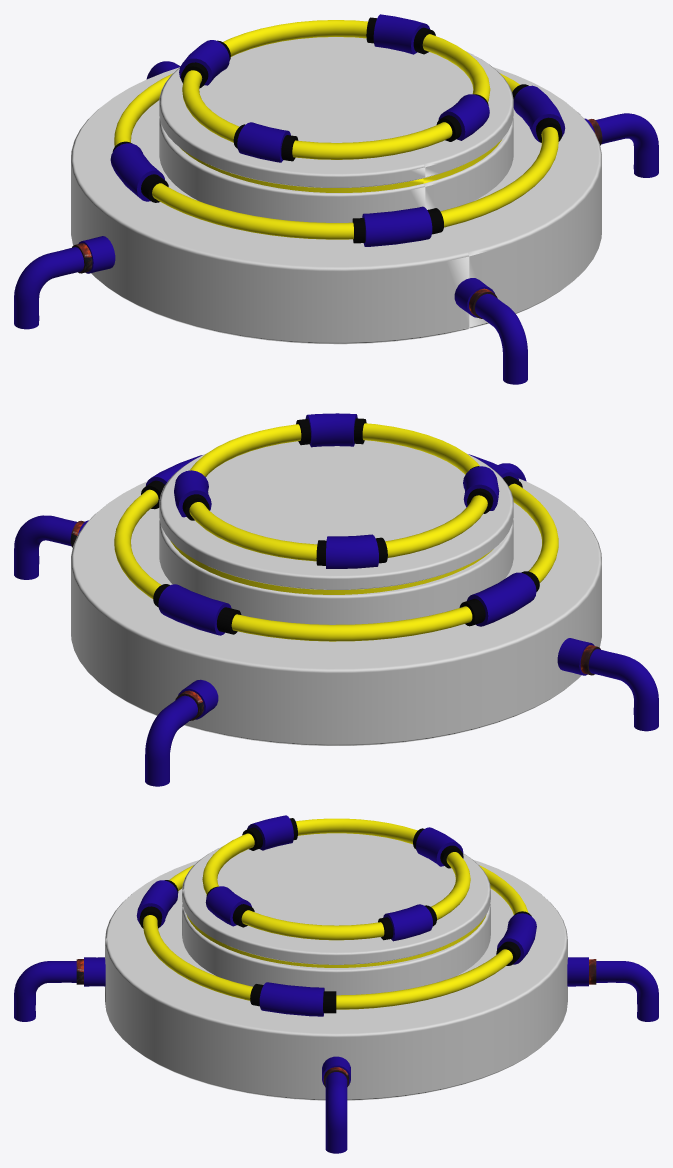
File: holo.glb
3 views of the same model, one above another, from view 1: azimuth 30°, elevation 25°; view 2: azimuth 150°, elevation 25°; view 3: azimuth 270°, elevation 25° (orthographic). The views are drawn at different scales.
Visible parts, largest first — view 1: Cylinder, Cylinder 4, Cylinder 2, Glass Tube, Glass Tube.001, Outer Glass Pipe.002, Outer Glass Pipe.001, Outer Glass Pipe.003, matel Cap 4.001, Cylinder 3, matel Cap.001, matel Cap 4 (+7 smaller); view 2: Cylinder, Cylinder 4, Cylinder 2, Glass Tube, Glass Tube.001, Outer Glass Pipe.002, Outer Glass Pipe, Outer Glass Pipe.003, matel Cap 2.001, matel Cap.001, matel Cap, Cylinder 3 (+8 smaller); view 3: Cylinder, Cylinder 4, Cylinder 2, Glass Tube, Glass Tube.001, Outer Glass Pipe, Outer Glass Pipe.001, matel Cap 3.001, Outer Glass Pipe.003, matel Cap 2, Cylinder 3, matel Cap 2.001 (+7 smaller).
Boxes of the visible parts, x1,y1,x2,y2 form: Cylinder: [71, 67, 601, 344]; Cylinder 4: [159, 37, 513, 187]; Cylinder 2: [159, 118, 513, 222]; Glass Tube: [182, 20, 490, 159]; Glass Tube.001: [114, 73, 558, 239]; Outer Glass Pipe.002: [14, 247, 84, 329]; Outer Glass Pipe.001: [475, 293, 527, 384]; Outer Glass Pipe.003: [595, 113, 658, 177]; matel Cap 4.001: [362, 206, 432, 246]; Cylinder 3: [180, 140, 501, 192]; matel Cap.001: [110, 143, 164, 201]; matel Cap 4: [237, 122, 290, 162]; Cylinder: [71, 478, 601, 745]; Cylinder 4: [159, 440, 513, 589]; Cylinder 2: [159, 520, 513, 624]; Glass Tube: [189, 423, 487, 561]; Glass Tube.001: [114, 483, 558, 641]; Outer Glass Pipe.002: [588, 649, 658, 731]; Outer Glass Pipe: [145, 695, 197, 786]; Outer Glass Pipe.003: [14, 515, 77, 579]; matel Cap 2.001: [158, 584, 231, 635]; matel Cap.001: [467, 572, 536, 626]; matel Cap: [326, 534, 378, 568]; Cylinder 3: [170, 541, 493, 594]; Cylinder: [105, 860, 567, 1100]; Cylinder 4: [182, 833, 490, 964]; Cylinder 2: [182, 904, 490, 995]; Glass Tube: [202, 818, 470, 940]; Glass Tube.001: [143, 865, 528, 1009]; Outer Glass Pipe: [596, 961, 658, 1021]; Outer Glass Pipe.001: [14, 961, 76, 1021]; matel Cap 3.001: [259, 982, 324, 1016]; Outer Glass Pipe.003: [325, 1072, 347, 1153]; matel Cap 2: [383, 904, 432, 941]; Cylinder 3: [186, 914, 486, 967]; matel Cap 2.001: [497, 913, 536, 964].
Bounding box in the file's own units: 8.83 × 2.29 × 8.83.
Materials: 6 (1 with a texture image).
